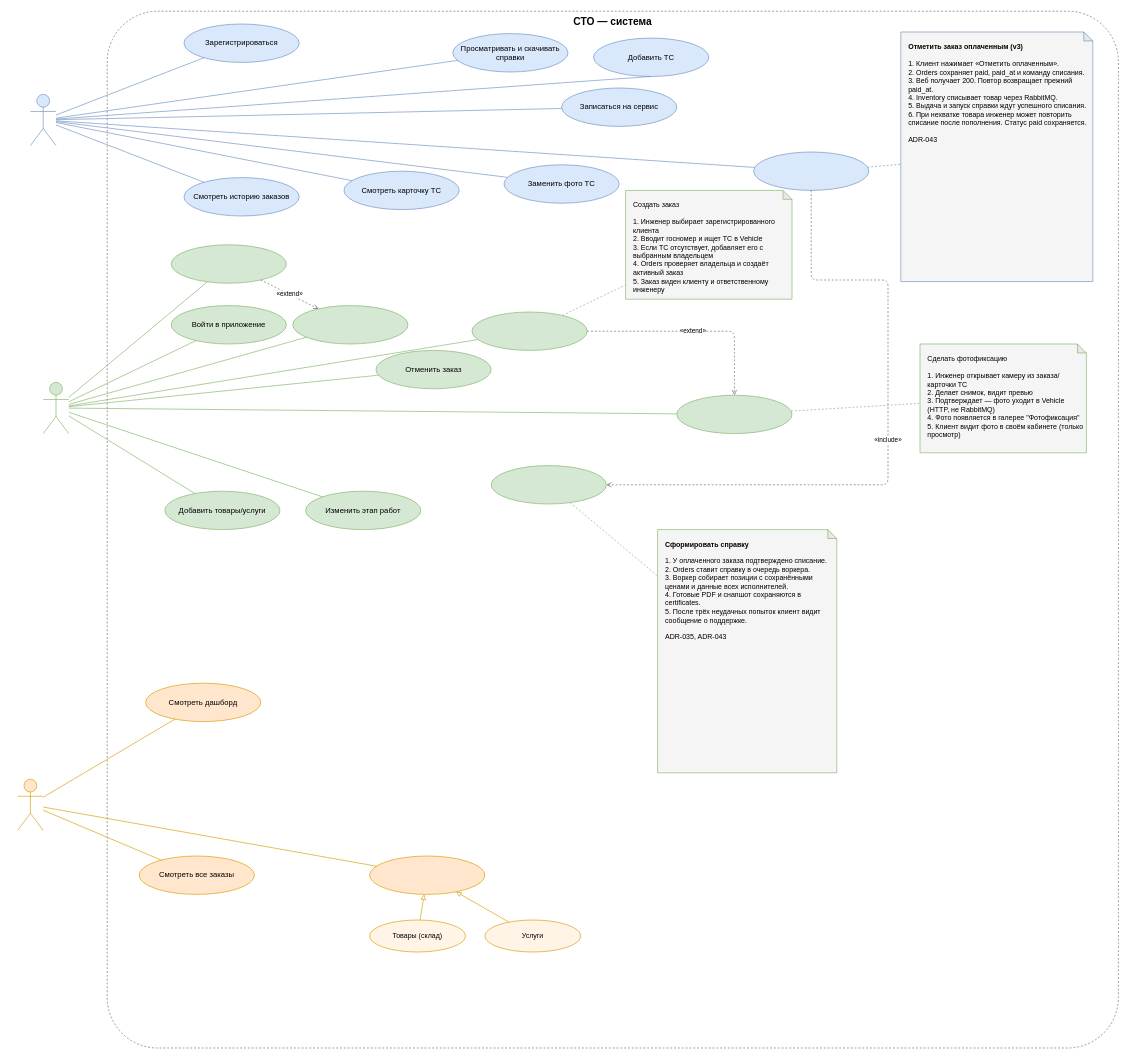
This 1130x1059 diagram has some shape labels left out. The centre of each missing label's shape, as x and y in pixels:
"Взять заявку в работу" goes at [228,263].
"Директор" goes at [30,804].
"Инженер" goes at [56,408].
"Клиент" goes at [43,120].
"Отметить заказ оплаченным" goes at [811,170].
"Сделать фотофиксацию" goes at [734,414].
"Смотреть список заявок" goes at [350,324].
"Создать заказ" goes at [529,330].
"Сформировать справку" goes at [548,484].
"Управлять каталогом" goes at [427,874].
